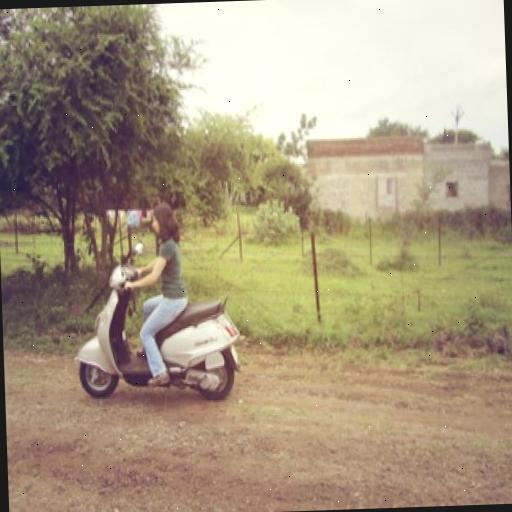no helmet: (68, 176, 190, 405)
